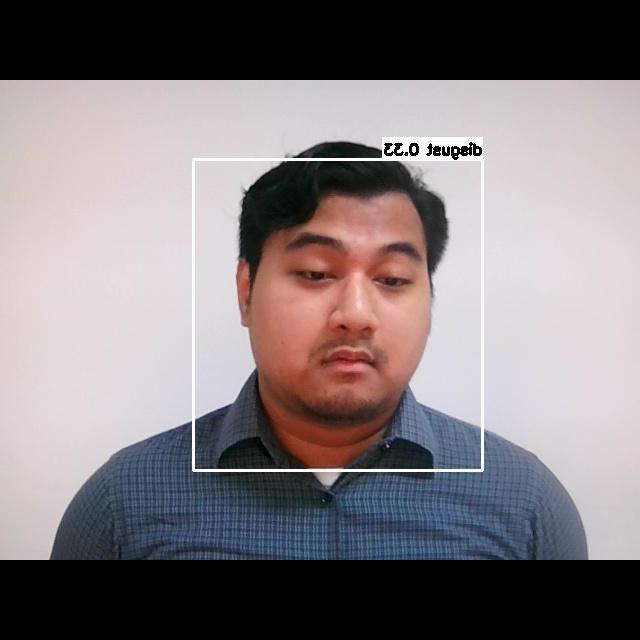Fear: (250, 211, 431, 401)
